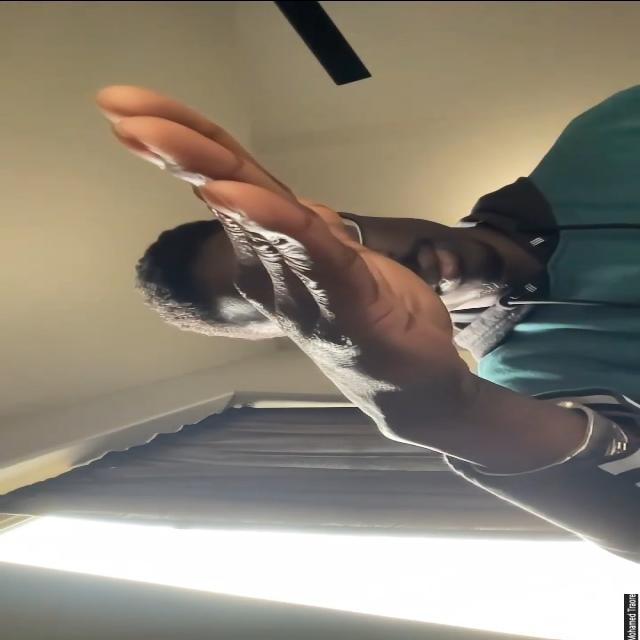Paper: (90, 84, 466, 432)
